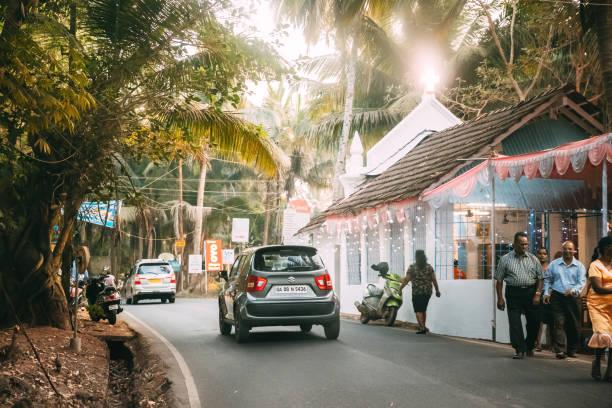suzuki: (284, 274, 300, 286)
